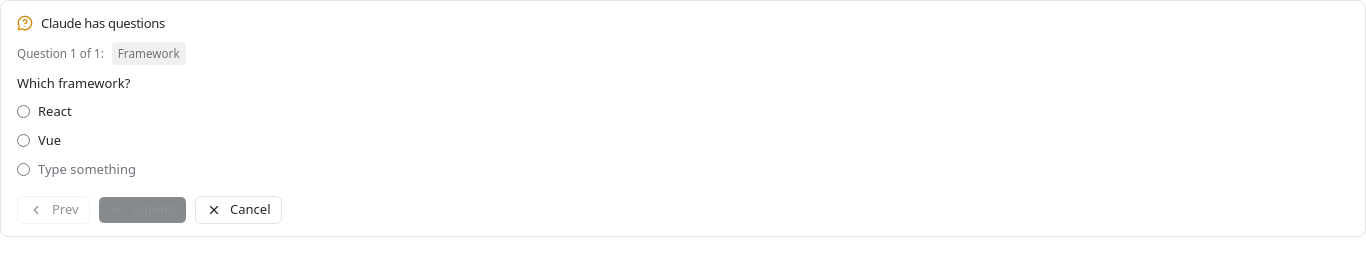
Scenario: ApprovalCard — AskUserQuestion form (parsed from content_preview) › gates Submit until every question has at least one selection
Expected: the button "Submit" is disabled, [98,196,187,224]
Click the radio button labelled "React": coordinates (24, 112) [17,105,30,118]
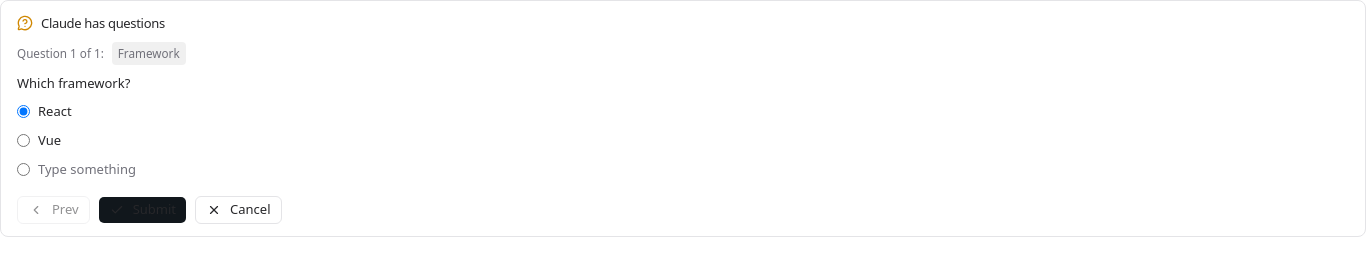
Expected: the button "Submit" is enabled, [98,196,187,224]
